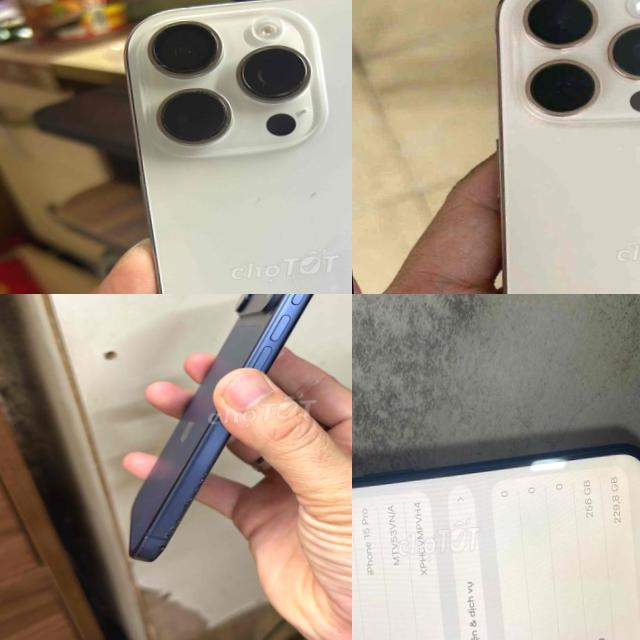scratch: (229, 182, 287, 214), (142, 53, 185, 78), (294, 181, 332, 209)
screen_defect: (522, 448, 570, 476)
